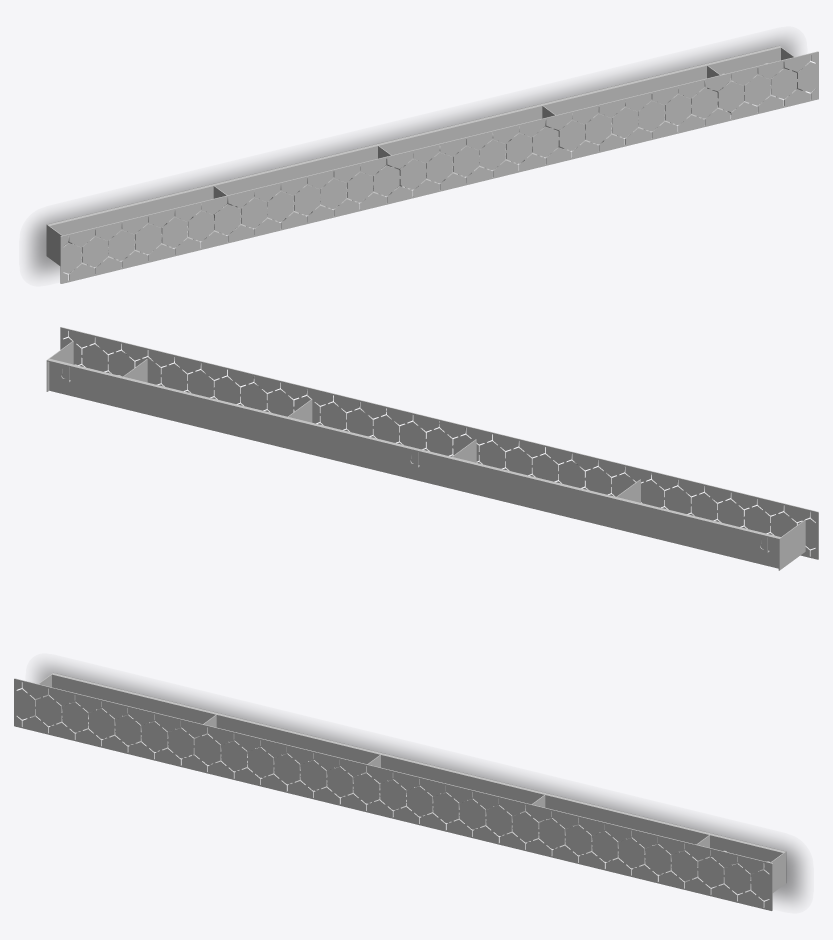
Rendered from bee-patron.92055cb22a.ar.glb.
3 renders of one model, top to bottom at view 1: azimuth 30°, elevation 25°; view 2: azimuth 150°, elevation 25°; view 3: azimuth 330°, elevation 25°, orthographic.
Parts seen in each view (by area): view 1: NAUO1, object 2; view 2: NAUO1; view 3: NAUO1, object 2.
Part boxes in pixels (x1=…): NAUO1: x1=46, y1=45, x2=818, y2=283; object 2: x1=29, y1=38, x2=797, y2=274; NAUO1: x1=46, y1=327, x2=818, y2=570; NAUO1: x1=14, y1=672, x2=786, y2=910; object 2: x1=35, y1=665, x2=803, y2=901.
Size of the model in its own units: 1.58 by 0.17 by 0.092.
Materials: 2 (1 with a texture image).
